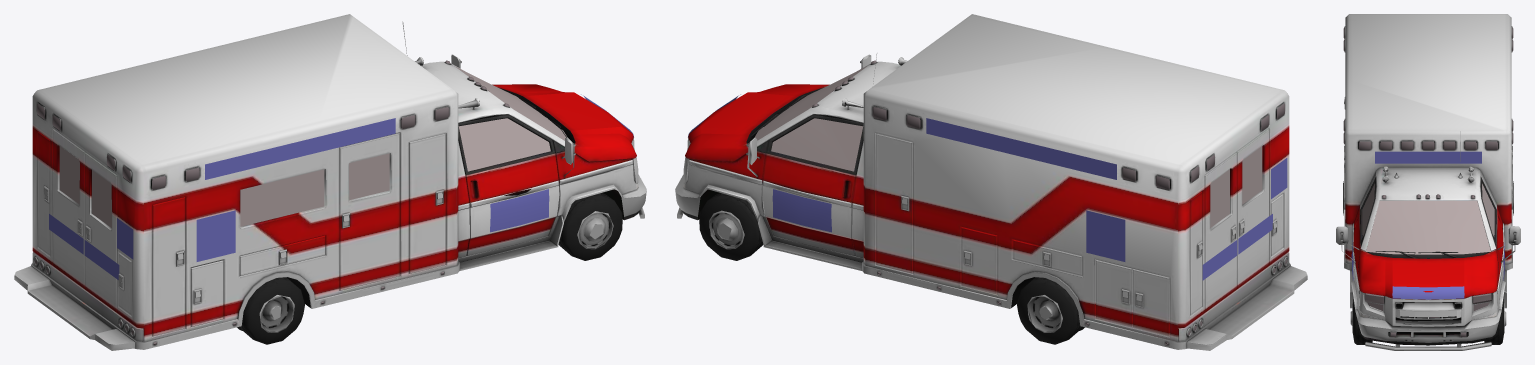
The model's file is civ-ambulance.lod0.glb.
3 views of the same model, side by side, from view 1: azimuth 30°, elevation 25°; view 2: azimuth 150°, elevation 25°; view 3: azimuth 270°, elevation 25° (orthographic). The views are drawn at different scales.
Parts seen in each view (by area): view 1: ambulance_ambulance_0, ambulance_decals_tex_0; view 2: ambulance_ambulance_0, ambulance_decals_tex_0; view 3: ambulance_ambulance_0, ambulance_decals_tex_0.
Part boxes in pixels (bbox=[...]): ambulance_ambulance_0: bbox=[14, 14, 646, 350]; ambulance_decals_tex_0: bbox=[34, 60, 633, 345]; ambulance_ambulance_0: bbox=[675, 14, 1307, 350]; ambulance_decals_tex_0: bbox=[688, 60, 1287, 345]; ambulance_ambulance_0: bbox=[1336, 14, 1520, 350]; ambulance_decals_tex_0: bbox=[1343, 27, 1513, 336].
Bounding box in the file's own units: 6.9 × 2.57 × 2.59.
Materials: 2 (1 with a texture image).
